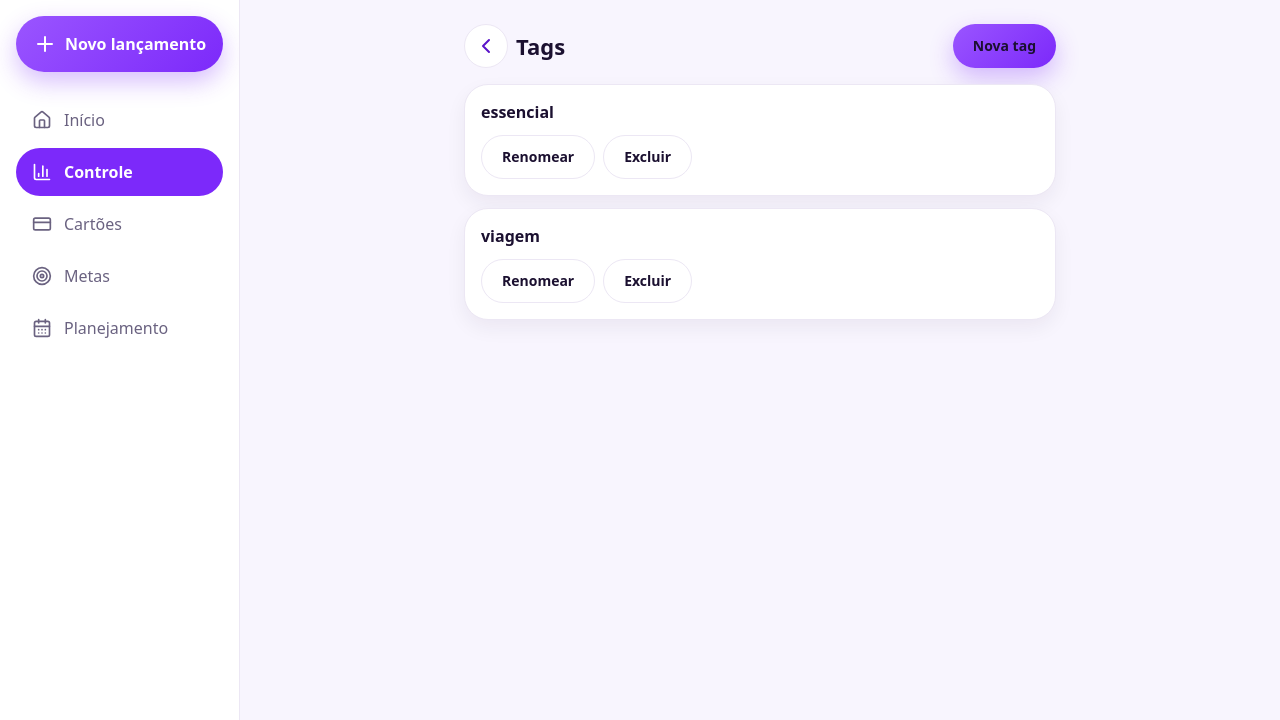
Test case: FormTag (CA-2.11) › renomear abre com o nome atual e envia PATCH com o novo nome
Expected: the text "essencial" is shown, [481,101,554,123]
Click the button "Renomear" below "essencial". click: [538, 157]
box: [481,135,595,179]
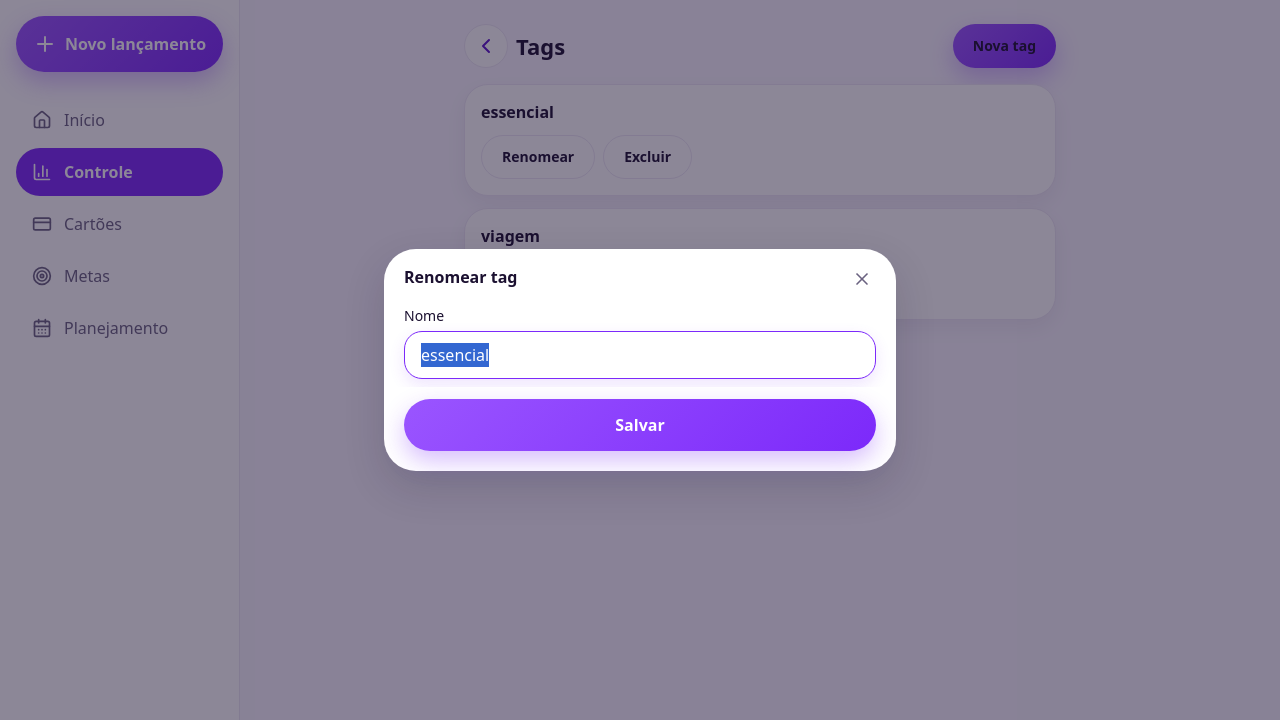
Expected: the field labelled "Nome" holds "essencial"
Replace the text in the field labelled "Nome" with "prioridade". click: [640, 355]
box: [404,331,876,379]
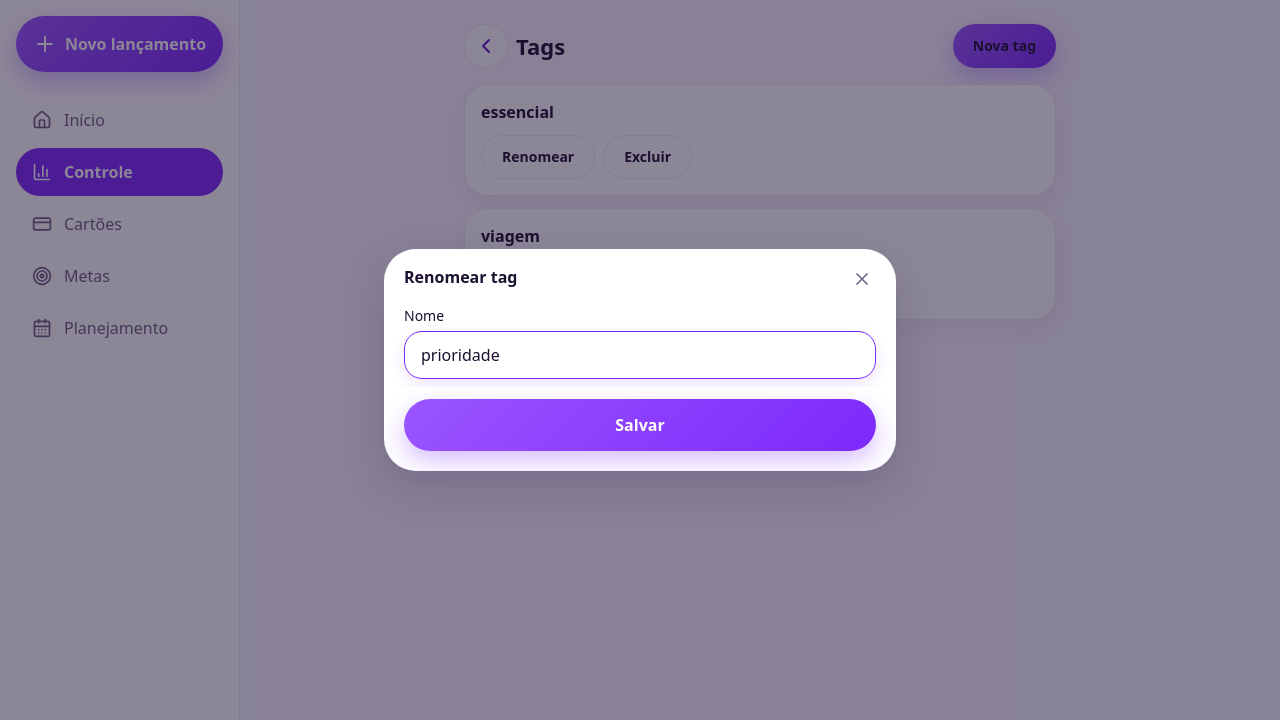
Click the button "Salvar". click: [640, 425]
box: [404,399,876,451]
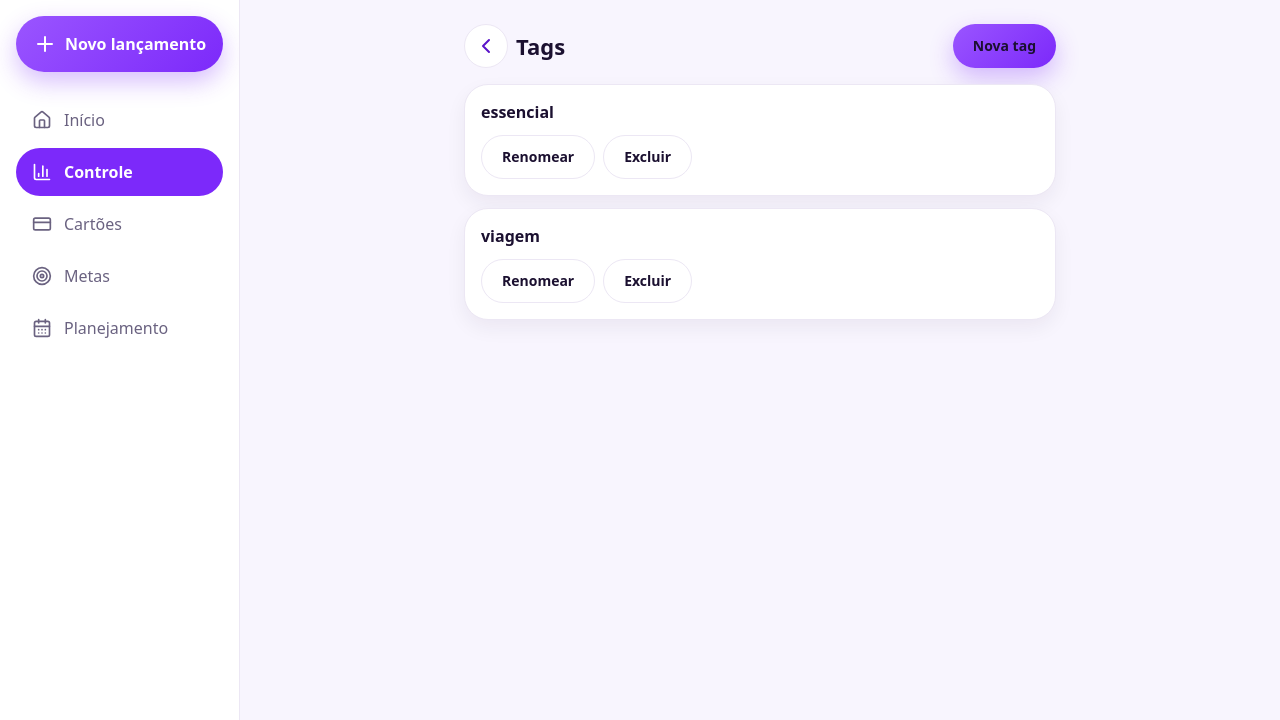
Expected: the text "essencial" is shown, [481,101,554,123]
Expected: the dialog is gone
